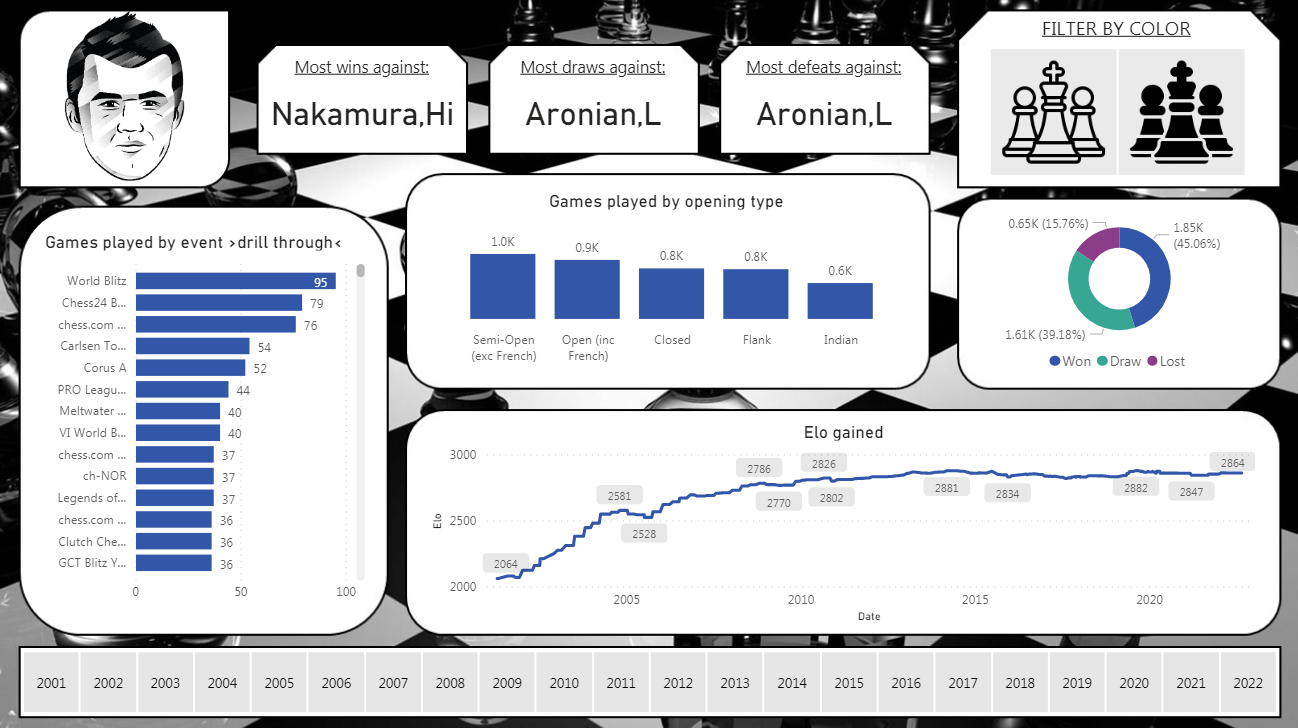

The page's visual inventory and layout, read from the dashboard file:
{"tool":"powerbi","page":{"name":"Main Dashboard","canvas":[1280,720],"ordinal":0},"visuals":[{"type":"image","box":[0,0,1280,720],"z":0},{"type":"slicer","fields":{"Values":["DateTable.Year"]},"box":[7,633,1264,72],"z":1000},{"type":"slicer","fields":{"Values":["Colors_img.img"]},"box":[944,48,296,136],"z":2000},{"type":"lineChart","title":"Elo gained","fields":{"Category":["DateTable.Date"],"Y":["Max(Games.elo)"]},"box":[424,416,808,200],"z":3000},{"type":"card","fields":{"Values":["MeasureTable.Most Lost Against"]},"box":[712,72,195,88],"z":4000},{"type":"card","fields":{"Values":["MeasureTable.Most Wins Against"]},"box":[264,72,195,88],"z":5000},{"type":"donutChart","fields":{"Y":["CountNonNull(Games.result)"],"Category":["Games.result"]},"box":[955,208,280,168],"z":6000},{"type":"card","fields":{"Values":["MeasureTable.Most Draws Against"]},"box":[488,72,195,88],"z":7000},{"type":"clusteredBarChart","title":"Games played by event >drill through<","fields":{"Category":["Games.event"],"Y":["CountNonNull(Games.date_played)"]},"box":[48,232,320,368],"z":8000},{"type":"clusteredColumnChart","title":"Games played by opening type","fields":{"Y":["CountNonNull(Games.date_played)"],"Category":["Openings.eco_group"]},"box":[416,192,480,176],"z":9000},{"type":"textbox","box":[720,56,176,40],"z":10000},{"type":"textbox","box":[496,56,176,40],"z":11000},{"type":"textbox","box":[272,56,176,40],"z":12000},{"type":"textbox","box":[952,16,280,40],"z":13000},{"type":"image","box":[16,8,228,184],"z":13001}]}

Visuals, with their boxes in screenshot pixels (x1, y1, x2, y2), scaled from the page's 1280x720 canvas onto the 1298x728 screenshot:
image: select_region(0, 0, 1297, 727)
slicer - DateTable.Year: select_region(7, 640, 1289, 713)
slicer - Colors_img.img: select_region(957, 49, 1257, 186)
"Elo gained" lineChart: select_region(430, 421, 1249, 623)
card - MeasureTable.Most Lost Against: select_region(722, 73, 920, 162)
card - MeasureTable.Most Wins Against: select_region(268, 73, 465, 162)
donutChart - CountNonNull(Games.result) x Games.result: select_region(968, 210, 1252, 380)
card - MeasureTable.Most Draws Against: select_region(495, 73, 693, 162)
"Games played by event >drill through<" clusteredBarChart: select_region(49, 235, 373, 607)
"Games played by opening type" clusteredColumnChart: select_region(422, 194, 909, 372)
textbox: select_region(730, 57, 909, 97)
textbox: select_region(503, 57, 681, 97)
textbox: select_region(276, 57, 454, 97)
textbox: select_region(965, 16, 1249, 57)
image: select_region(16, 8, 247, 194)
